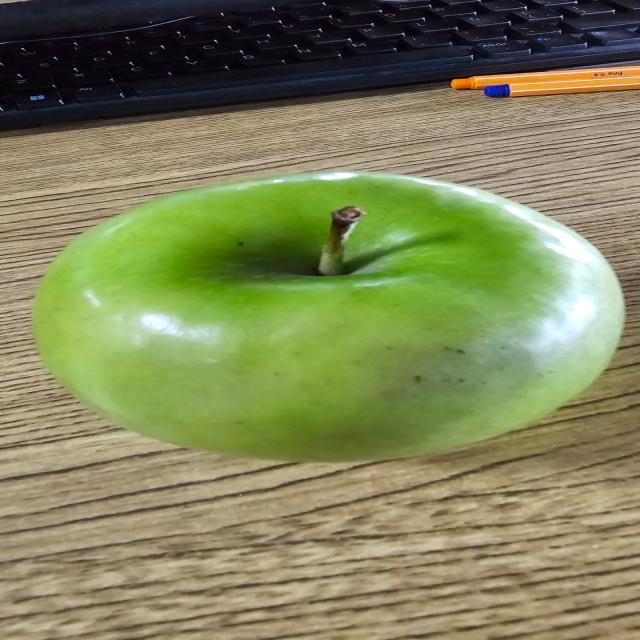Apel Granny Smith: (23, 165, 634, 466)
